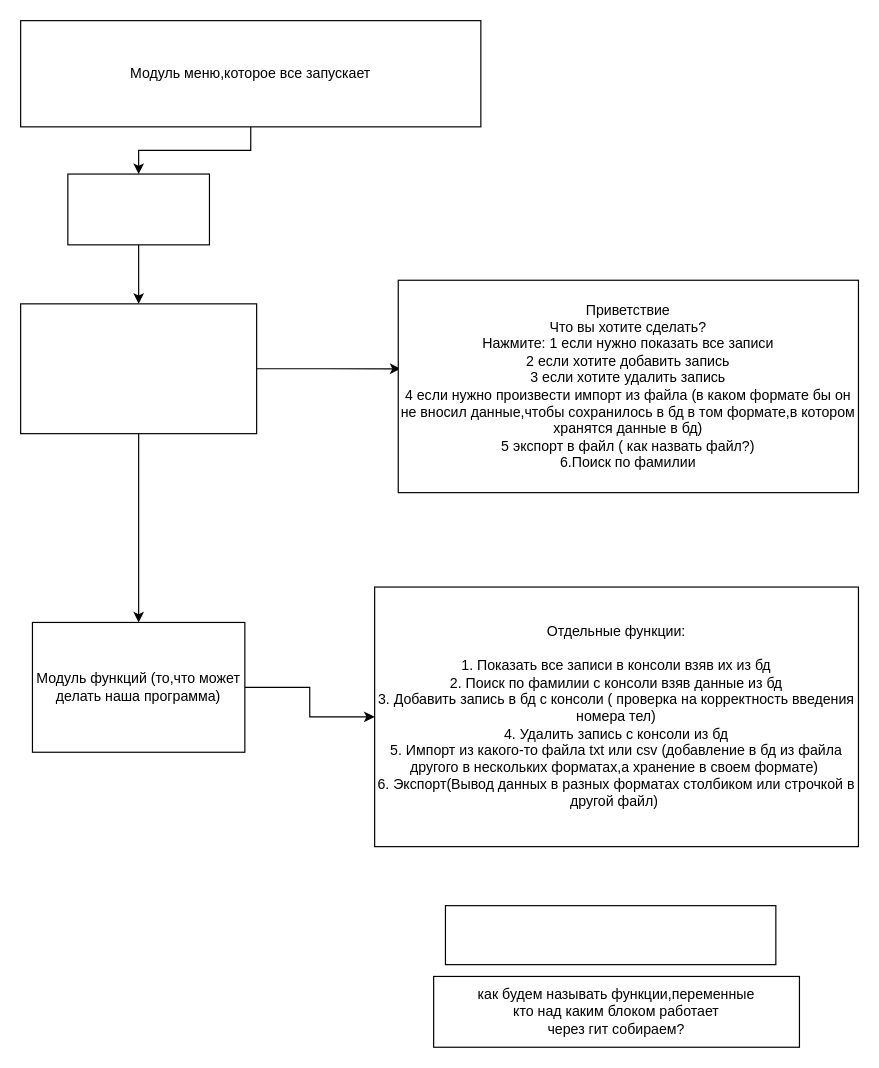
This 879x1068 diagram has some shape labels left out. Each missing label, with the box of its shape:
контроллер (собирает все функции в одну): (67, 173, 209, 245)
Модуль View (взаимодействие с пользователем): (19, 303, 257, 434)
Хранение данных в табличном файле csv?: (444, 904, 776, 965)
